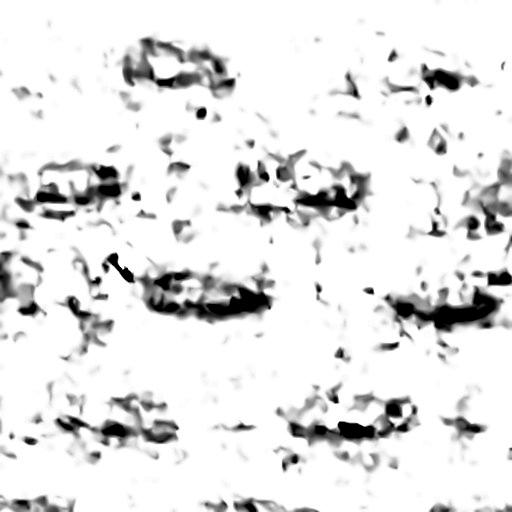egg: (107, 253, 133, 281), (339, 422, 373, 435)
